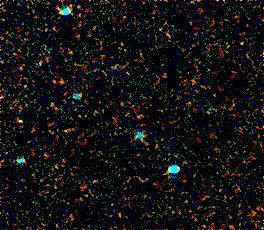star: (3, 107, 33, 137)
